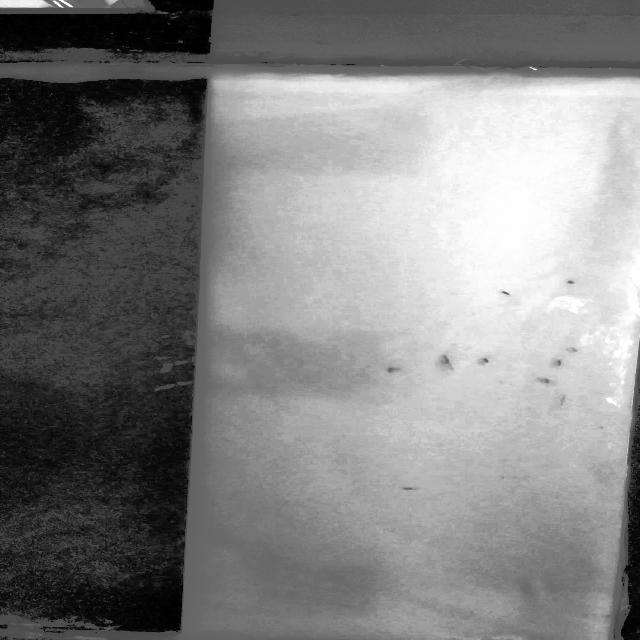shrimp: (437, 352, 460, 374), (496, 288, 532, 298), (550, 355, 574, 369), (562, 278, 588, 289), (555, 388, 567, 408), (384, 365, 406, 375), (567, 347, 587, 358), (395, 486, 426, 493), (538, 375, 556, 387), (482, 355, 498, 367)
